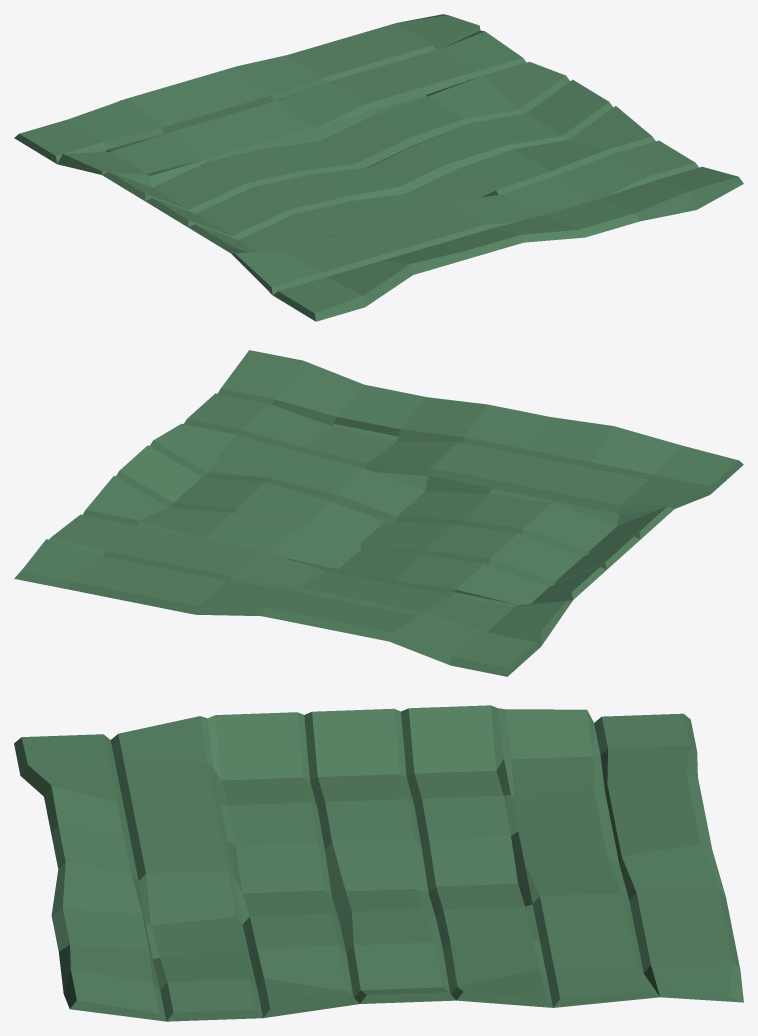
The model's file is obrabotka_broken.fbx.
3 renders of one model, top to bottom at view 1: azimuth 30°, elevation 25°; view 2: azimuth 150°, elevation 25°; view 3: azimuth 270°, elevation 25°, orthographic. The views are drawn at different scales.
Parts seen in each view (by area): view 1: broken1; view 2: broken1; view 3: broken1.
Part boxes in pixels (box(x1,y1,x2,y2)): broken1: box(14, 14, 743, 321); broken1: box(14, 350, 743, 676); broken1: box(14, 705, 743, 1021).
Size of the model in its own units: 20.74 by 1.92 by 20.94.
